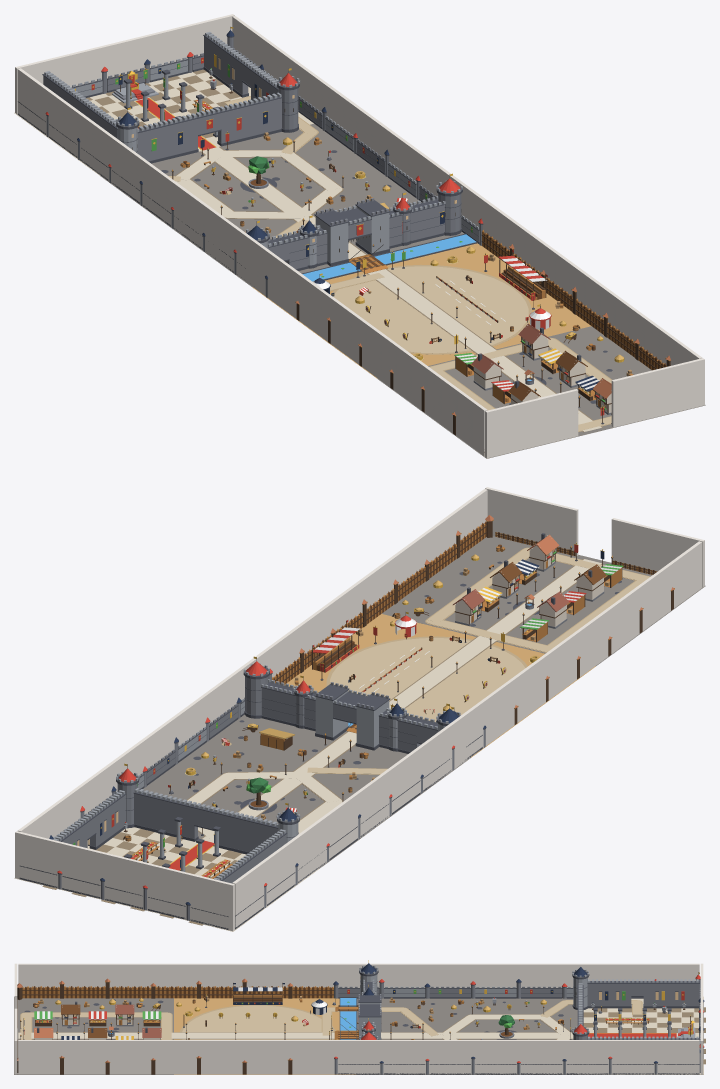
The model's file is CatCafe_Castle_Set.glb.
3 renders of one model, top to bottom at view 1: azimuth 30°, elevation 25°; view 2: azimuth 150°, elevation 25°; view 3: azimuth 270°, elevation 25°, orthographic. The views are drawn at different scales.
Parts seen in each view (by area): view 1: CatCafe_Castle_Set_075_Walls_Barrier, CatCafe_Castle_Set, CatCafe_Castle_Set_190_KeepWalls, CatCafe_Castle_Set_141_CurtainWall, CatCafe_Castle_Set_142_Gatehouse, CatCafe_Castle_Set_138_Moat_Water, CatCafe_Castle_Set_112_JoustStand, CatCafe_Castle_Set_143_RoundTower, CatCafe_Castle_Set_191_RoundTower, CatCafe_Castle_Set_090_TimberHouse, CatCafe_Castle_Set_084_TimberHouse, CatCafe_Castle_Set_092_TimberHouse; view 2: CatCafe_Castle_Set_075_Walls_Barrier, CatCafe_Castle_Set, CatCafe_Castle_Set_190_KeepWalls, CatCafe_Castle_Set_142_Gatehouse, CatCafe_Castle_Set_141_CurtainWall, CatCafe_Castle_Set_112_JoustStand, CatCafe_Castle_Set_143_RoundTower, CatCafe_Castle_Set_092_TimberHouse, CatCafe_Castle_Set_084_TimberHouse, CatCafe_Castle_Set_076_TimberHouse, CatCafe_Castle_Set_090_TimberHouse, CatCafe_Castle_Set_082_TimberHouse (+1 smaller); view 3: CatCafe_Castle_Set_075_Walls_Barrier, CatCafe_Castle_Set, CatCafe_Castle_Set_190_KeepWalls, CatCafe_Castle_Set_142_Gatehouse, CatCafe_Castle_Set_113_JoustStand, CatCafe_Castle_Set_013_WallPalisade, CatCafe_Castle_Set_011_WallPalisade, CatCafe_Castle_Set_015_WallPalisade, CatCafe_Castle_Set_021_WallPalisade, CatCafe_Castle_Set_027_WallStone, CatCafe_Castle_Set_029_WallStone, CatCafe_Castle_Set_031_WallStone (+22 smaller).
Part boxes in pixels (x1,y1,x2,y2): CatCafe_Castle_Set_075_Walls_Barrier: [15, 14, 704, 458]; CatCafe_Castle_Set: [14, 69, 705, 458]; CatCafe_Castle_Set_190_KeepWalls: [42, 32, 282, 163]; CatCafe_Castle_Set_141_CurtainWall: [268, 196, 445, 270]; CatCafe_Castle_Set_142_Gatehouse: [314, 198, 390, 266]; CatCafe_Castle_Set_138_Moat_Water: [302, 234, 476, 281]; CatCafe_Castle_Set_112_JoustStand: [498, 249, 547, 300]; CatCafe_Castle_Set_143_RoundTower: [436, 173, 462, 235]; CatCafe_Castle_Set_191_RoundTower: [276, 68, 300, 132]; CatCafe_Castle_Set_090_TimberHouse: [471, 353, 503, 390]; CatCafe_Castle_Set_084_TimberHouse: [555, 350, 587, 387]; CatCafe_Castle_Set_092_TimberHouse: [518, 323, 550, 360]; CatCafe_Castle_Set_075_Walls_Barrier: [15, 487, 704, 931]; CatCafe_Castle_Set: [14, 536, 705, 931]; CatCafe_Castle_Set_190_KeepWalls: [53, 788, 287, 883]; CatCafe_Castle_Set_142_Gatehouse: [314, 682, 390, 750]; CatCafe_Castle_Set_141_CurtainWall: [261, 679, 437, 753]; CatCafe_Castle_Set_112_JoustStand: [311, 620, 359, 672]; CatCafe_Castle_Set_143_RoundTower: [243, 656, 269, 718]; CatCafe_Castle_Set_092_TimberHouse: [453, 587, 484, 625]; CatCafe_Castle_Set_084_TimberHouse: [490, 560, 522, 598]; CatCafe_Castle_Set_076_TimberHouse: [527, 533, 559, 571]; CatCafe_Castle_Set_090_TimberHouse: [537, 591, 569, 628]; CatCafe_Castle_Set_082_TimberHouse: [574, 564, 606, 601]; CatCafe_Castle_Set_075_Walls_Barrier: [14, 963, 703, 1074]; CatCafe_Castle_Set: [14, 996, 705, 1074]; CatCafe_Castle_Set_190_KeepWalls: [577, 979, 699, 1040]; CatCafe_Castle_Set_142_Gatehouse: [357, 994, 381, 1039]; CatCafe_Castle_Set_113_JoustStand: [233, 983, 284, 1004]; CatCafe_Castle_Set_013_WallPalisade: [109, 986, 151, 998]; CatCafe_Castle_Set_011_WallPalisade: [64, 986, 105, 998]; CatCafe_Castle_Set_015_WallPalisade: [155, 986, 196, 998]; CatCafe_Castle_Set_021_WallPalisade: [292, 986, 333, 998]; CatCafe_Castle_Set_027_WallStone: [429, 986, 470, 998]; CatCafe_Castle_Set_029_WallStone: [475, 986, 516, 998]; CatCafe_Castle_Set_031_WallStone: [521, 986, 562, 998].
Size of the model in its own units: 152 by 39.01 by 562.
1 material, 1 textured.
